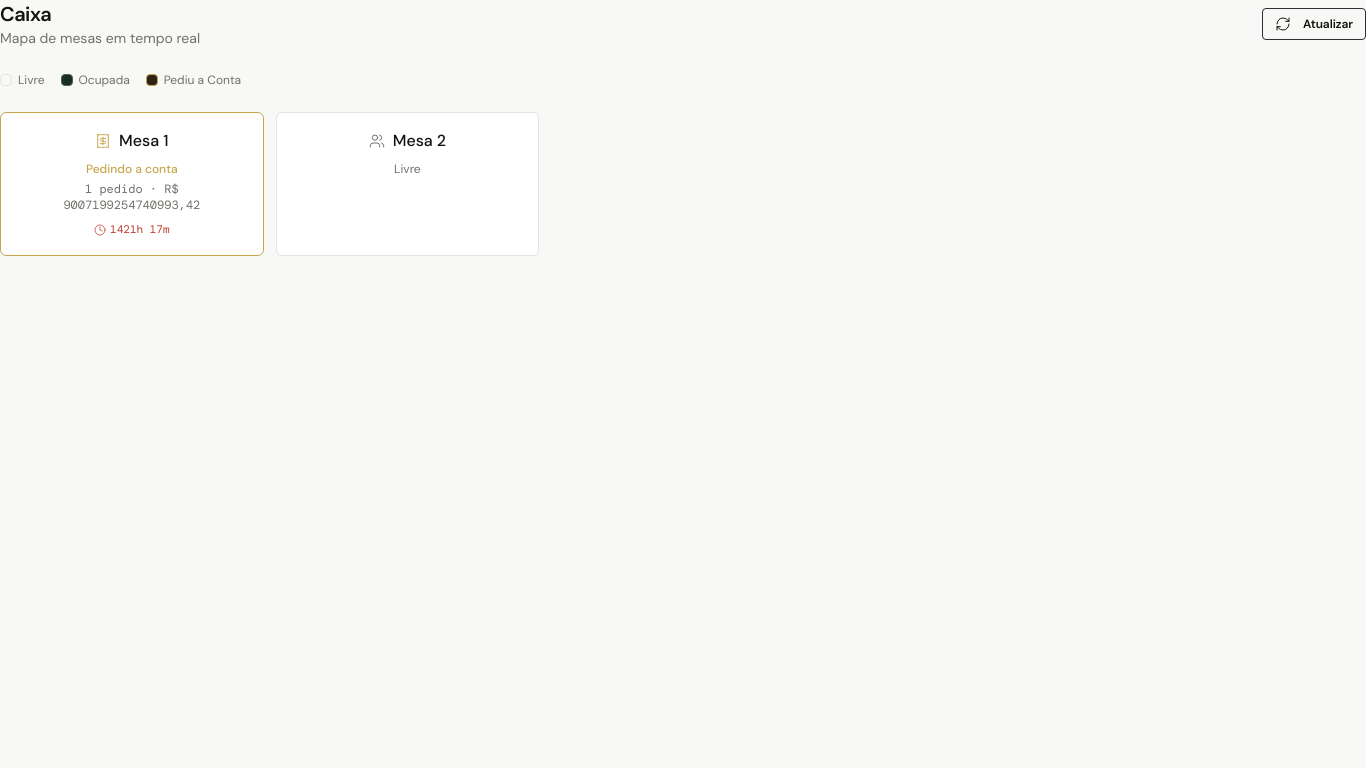
Test: cashier API cutover › loads detail and closes the whole session through one atomic API call
Later steps or results of the test are not shown.
Click the text "Mesa 1" at x=144, y=141, box [119, 129, 168, 153]
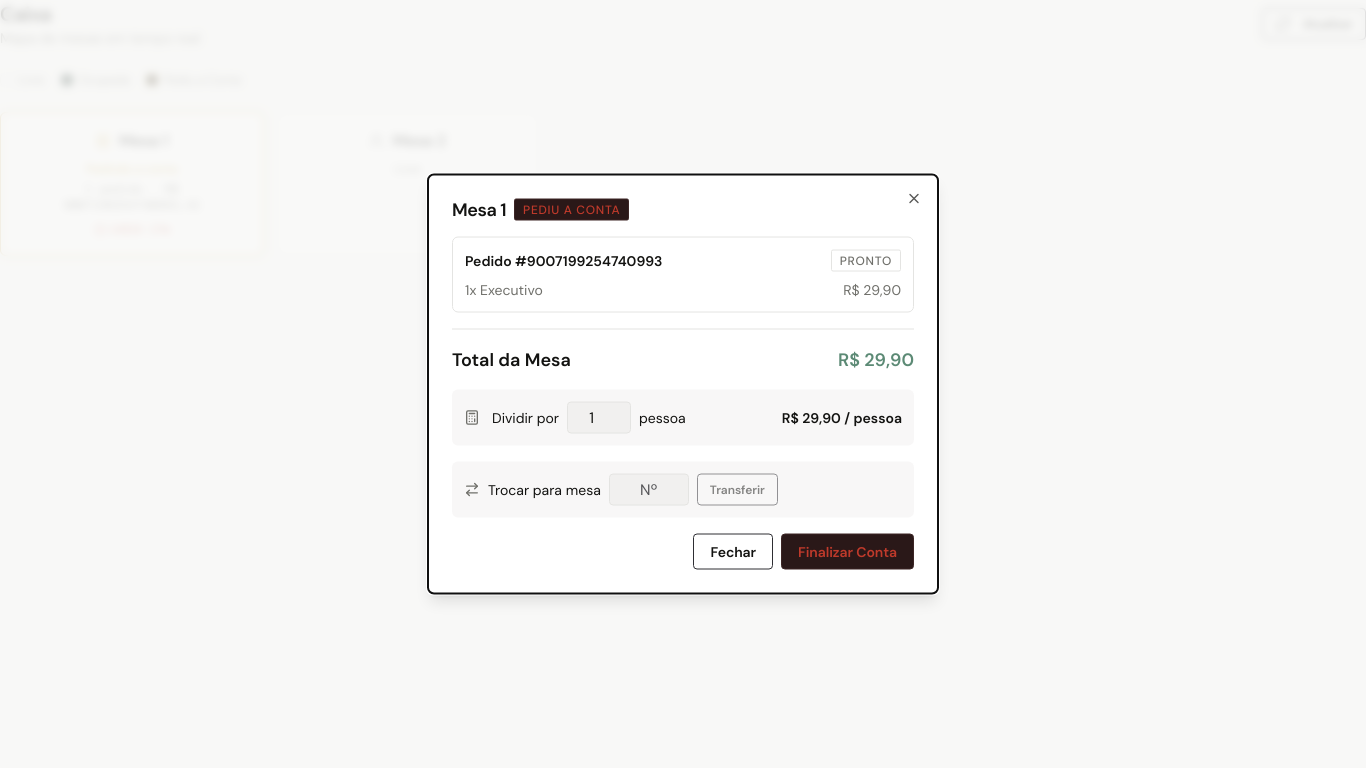
Expected: the text "Pedido #9007199254740993" is shown, [465, 250, 662, 270]
